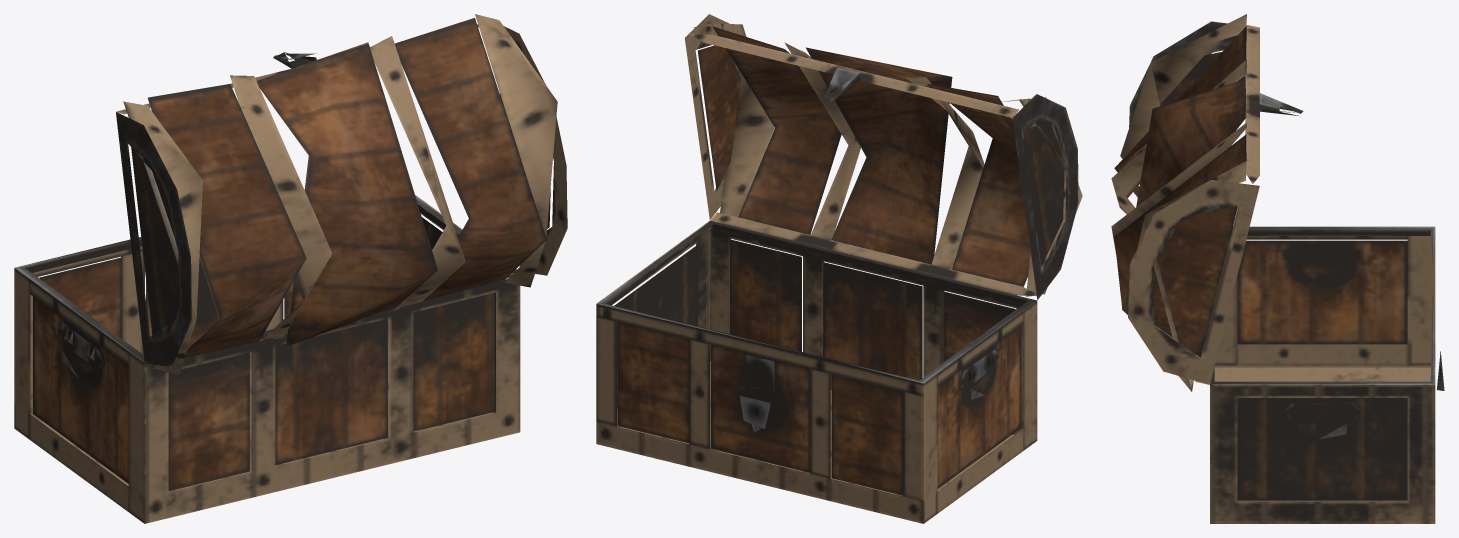
The model's file is chest_open_lod2.glb.
3 views of the same model, side by side, from view 1: azimuth 30°, elevation 25°; view 2: azimuth 150°, elevation 25°; view 3: azimuth 270°, elevation 25° (orthographic). The views are drawn at different scales.
Visible parts, largest first — view 1: chest_open_lod2; view 2: chest_open_lod2; view 3: chest_open_lod2.
Boxes of the visible parts, box(x1,y1,x2,y2) form: chest_open_lod2: box(14, 14, 567, 523); chest_open_lod2: box(596, 14, 1082, 523); chest_open_lod2: box(1111, 14, 1444, 523).
Bounding box in the file's own units: 0.4399 × 0.4477 × 0.3828.
Materials: 1 (1 with a texture image).
